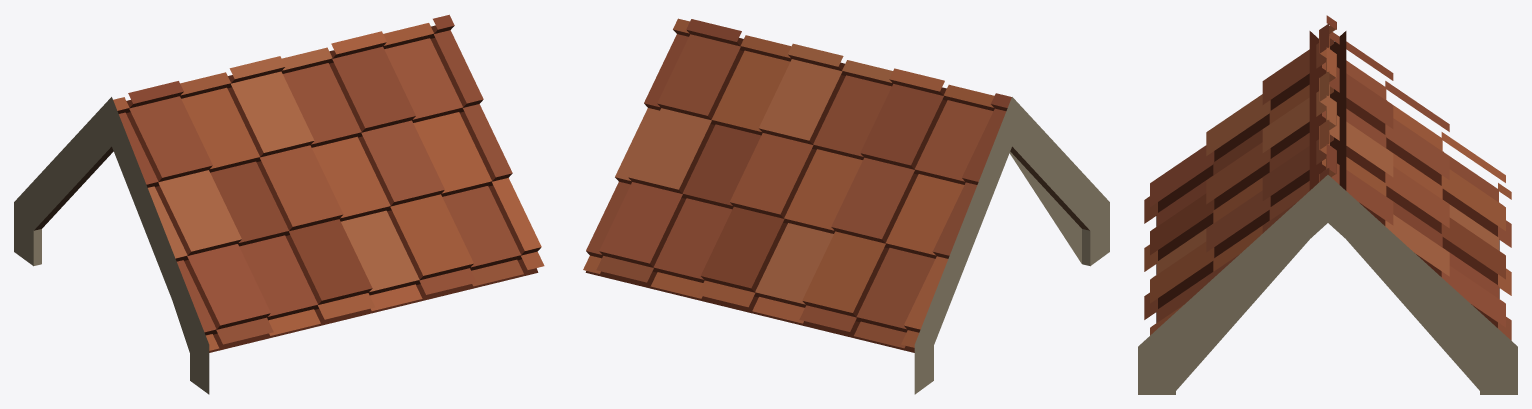
File: roof-high-gable-top-tile.glb
3 renders of one model, left to right at view 1: azimuth 30°, elevation 25°; view 2: azimuth 150°, elevation 25°; view 3: azimuth 270°, elevation 25°, orthographic. The views are drawn at different scales.
Visible parts, largest first — view 1: roof-high-gable-top-tile; view 2: roof-high-gable-top-tile; view 3: roof-high-gable-top-tile.
Boxes of the visible parts, bbox=[...] form: roof-high-gable-top-tile: bbox=[14, 14, 544, 394]; roof-high-gable-top-tile: bbox=[583, 18, 1109, 394]; roof-high-gable-top-tile: bbox=[1138, 15, 1517, 394].
Bounding box in the file's own units: 1 × 0.6407 × 1.
